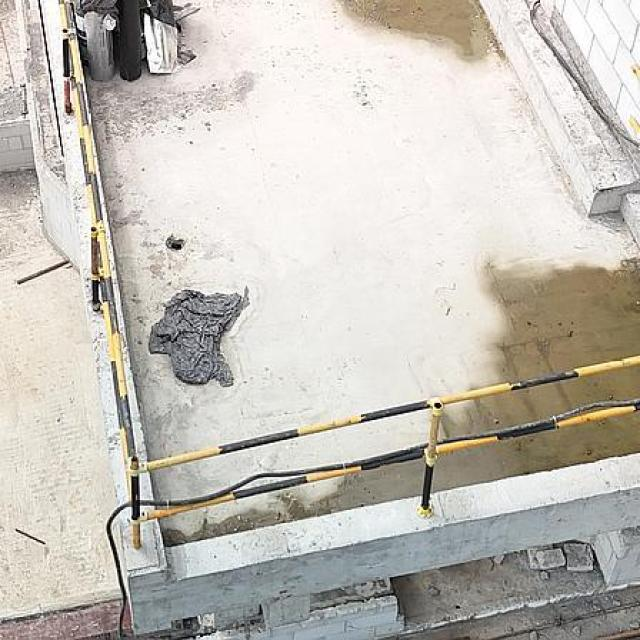edge_guardrail: (58, 0, 640, 548)
